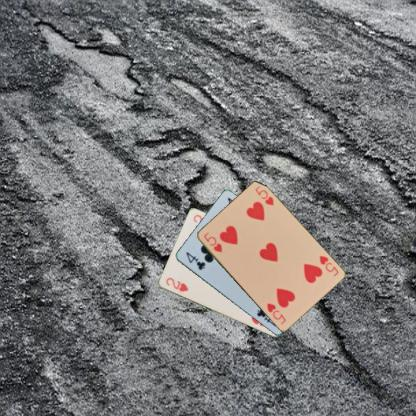2h: (163, 275, 189, 293)
4c: (183, 249, 206, 272)
5h: (316, 253, 340, 277), (201, 229, 223, 254)
